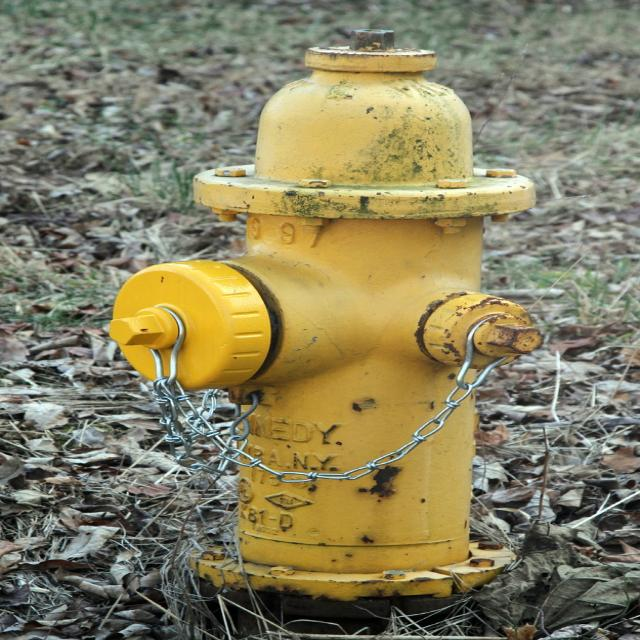fire_hydrant: (106, 31, 546, 606)
